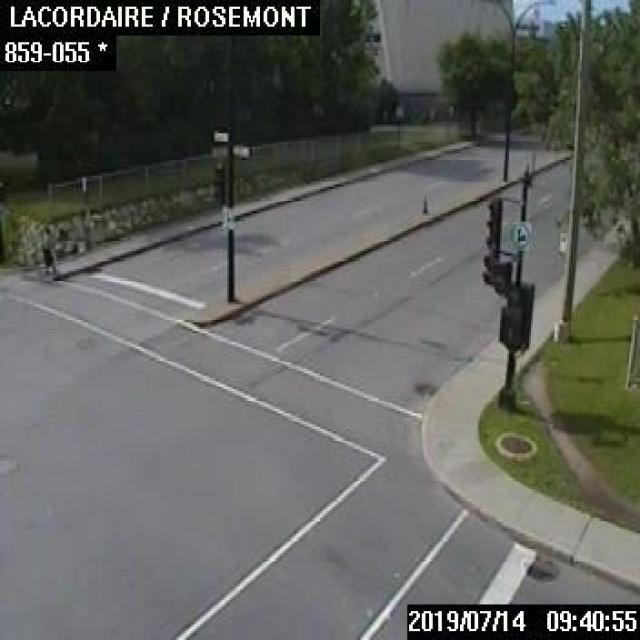pedestrian: (38, 224, 55, 274)
